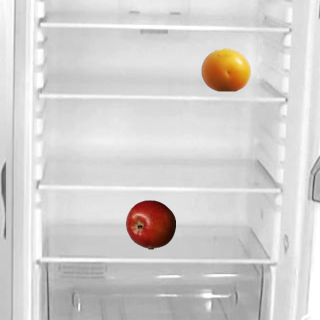Apple Braeburn: (125, 199, 175, 249)
Cherry Wax Yellow: (200, 44, 250, 94)
